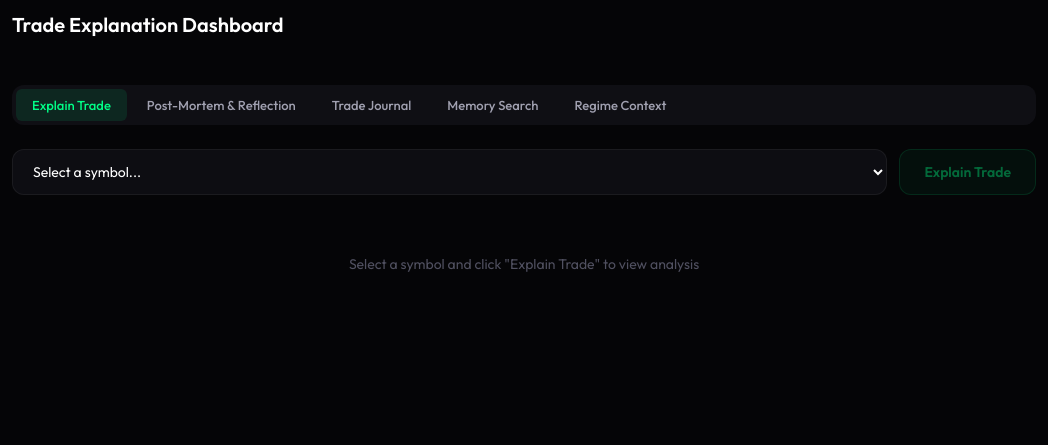
TradeIntelligence - Scenario 6: Memory Search Tab › Displays memory results
Click the button "Memory Search" at {"x": 493, "y": 105}, box [431, 89, 554, 121]
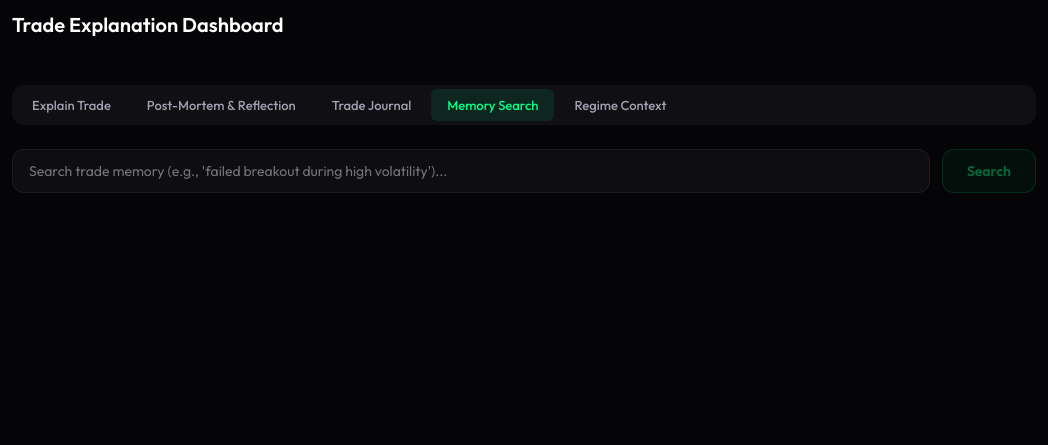
Replace the text in the field with placeholder "Search trade memory" with "breakout" at {"x": 471, "y": 171}, box [12, 149, 930, 193]
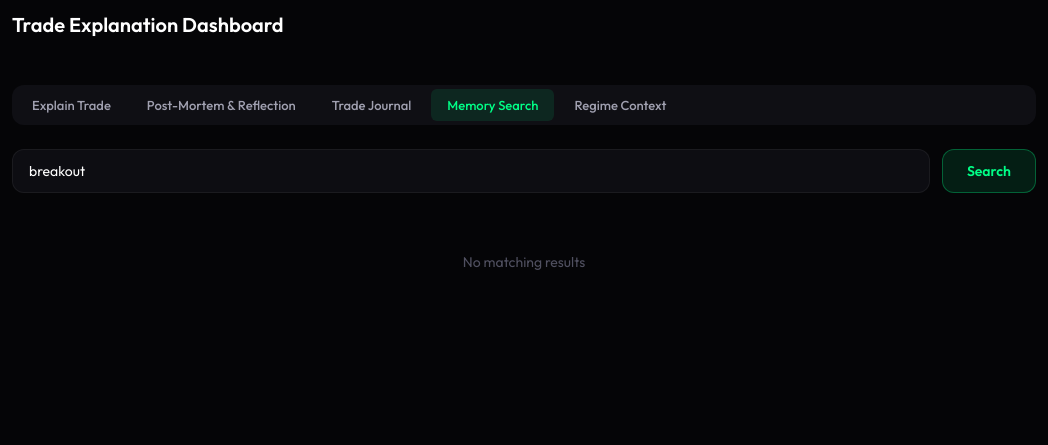
Click the button "Search" at {"x": 989, "y": 171}, box [942, 149, 1036, 193]
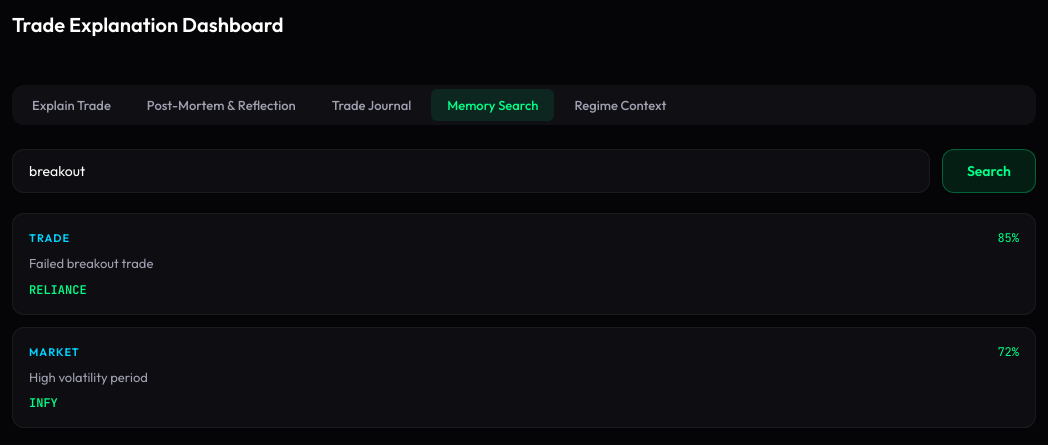
Now the text "Failed breakout trade" is shown, box [29, 255, 153, 271]
Now the text "85%" is shown, box [997, 230, 1019, 246]
